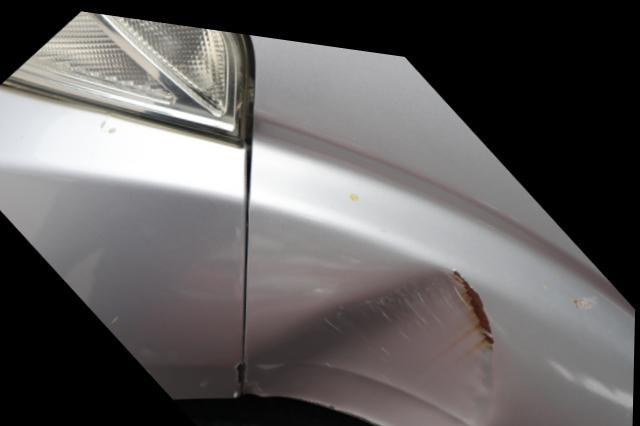dent: (237, 258, 499, 426)
